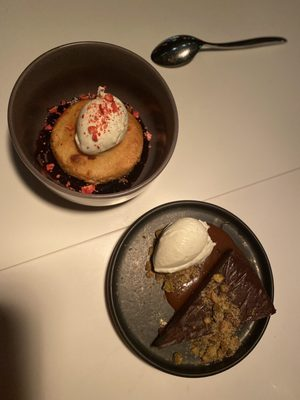salad: (151, 33, 287, 67)
sushi: (10, 42, 180, 208)
